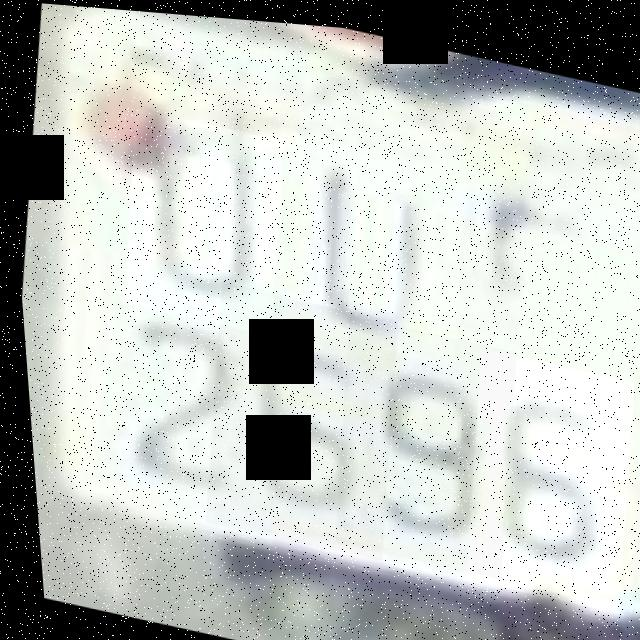2: (64, 269, 273, 528)
6: (184, 278, 408, 557), (444, 338, 640, 605)
9: (313, 308, 526, 574)
J: (107, 105, 294, 335)
U: (264, 126, 476, 360)
